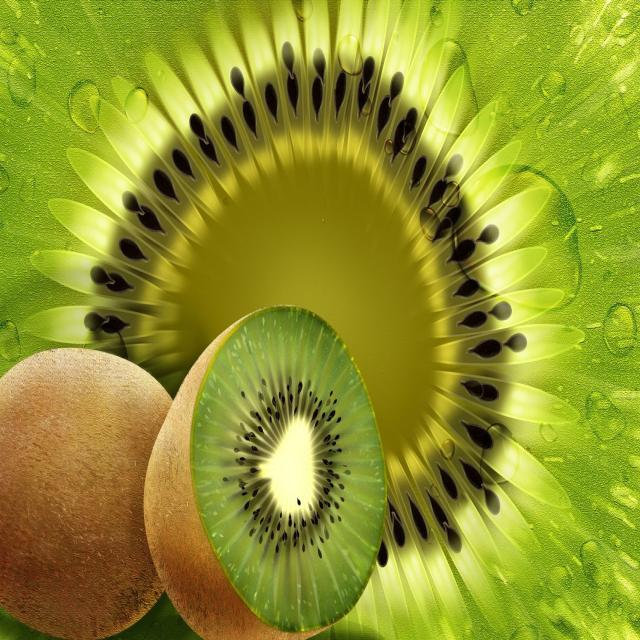kiwi: (0, 283, 399, 640)
